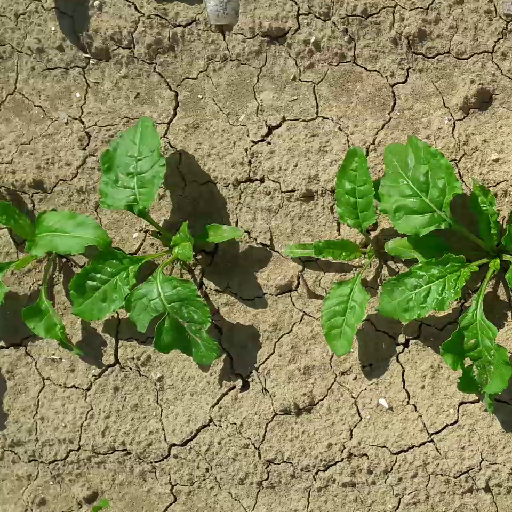sugarbeet: (66, 114, 249, 373), (371, 129, 512, 408), (272, 148, 444, 357), (1, 197, 110, 357)
